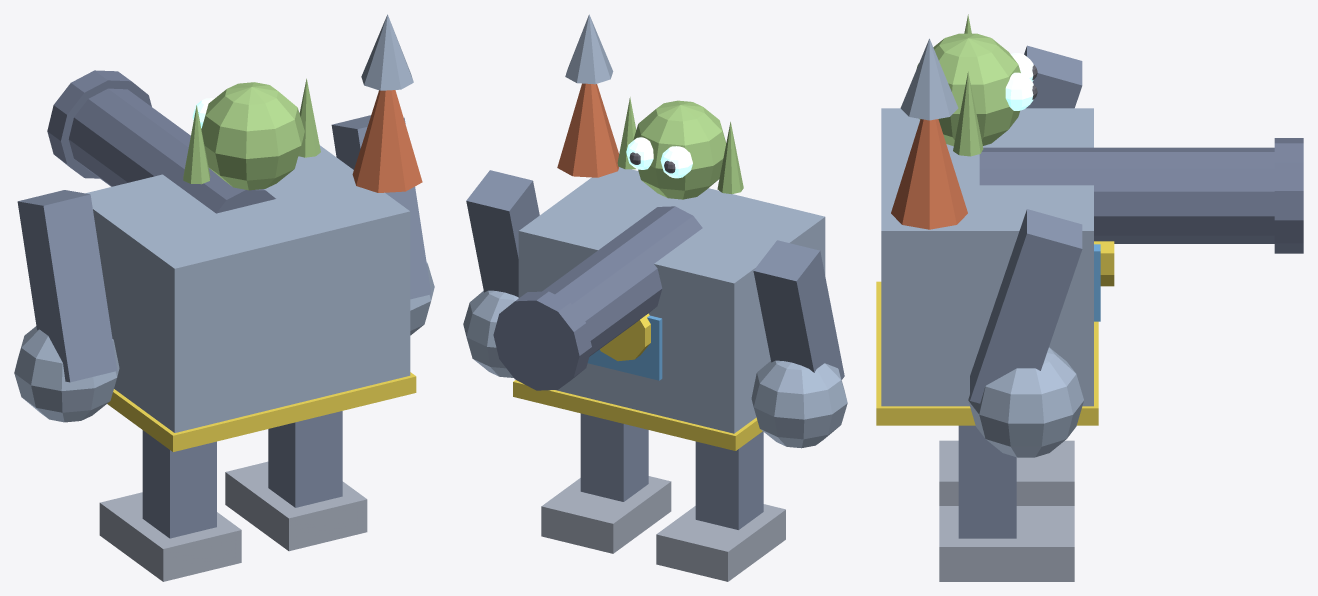
File: goblin_machine.glb
3 renders of one model, left to right at view 1: azimuth 30°, elevation 25°; view 2: azimuth 150°, elevation 25°; view 3: azimuth 270°, elevation 25°, orthographic. The views are drawn at different scales.
Parts seen in each view (by area): view 1: goblin_machine; view 2: goblin_machine; view 3: goblin_machine.
Boxes of the visible parts, x1,y1,x2,y2 form: goblin_machine: [14, 14, 434, 581]; goblin_machine: [463, 14, 847, 581]; goblin_machine: [876, 14, 1303, 581].
Bounding box in the file's own units: 2.57 × 3.15 × 2.21.
